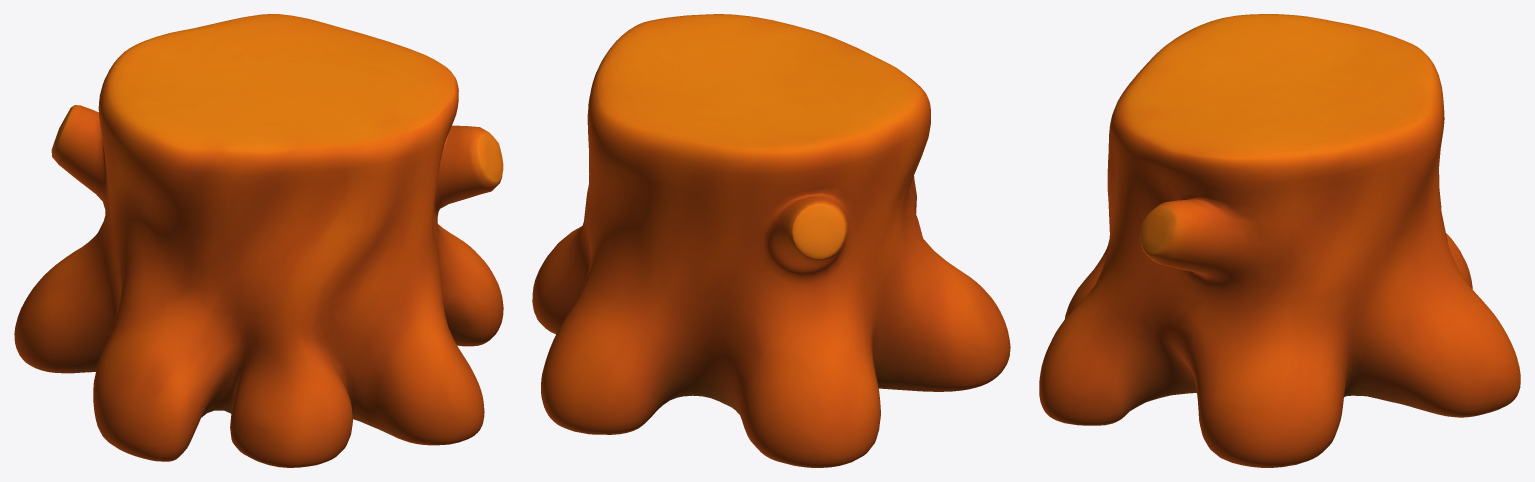
The model's file is tree-stump.glb.
The picture shows the model from 3 angles, left to right: view 1: azimuth 30°, elevation 25°; view 2: azimuth 150°, elevation 25°; view 3: azimuth 270°, elevation 25°; orthographic projection.
Parts seen in each view (by area): view 1: tripo_91d67e80_13a4_45fd_a751_20f8db23eafb; view 2: tripo_91d67e80_13a4_45fd_a751_20f8db23eafb; view 3: tripo_91d67e80_13a4_45fd_a751_20f8db23eafb.
Part boxes in pixels (left/top/right/bottom): tripo_91d67e80_13a4_45fd_a751_20f8db23eafb: left=14, top=14, right=503, bottom=467; tripo_91d67e80_13a4_45fd_a751_20f8db23eafb: left=532, top=14, right=1010, bottom=467; tripo_91d67e80_13a4_45fd_a751_20f8db23eafb: left=1039, top=14, right=1520, bottom=467.
Bounding box in the file's own units: 0.9995 × 0.6631 × 0.9819.
1 material, 1 textured.
